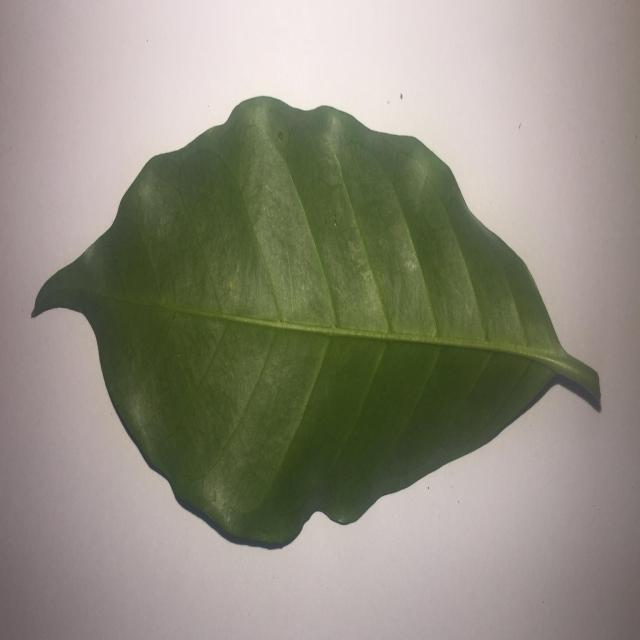Sanas: (31, 96, 602, 552)
